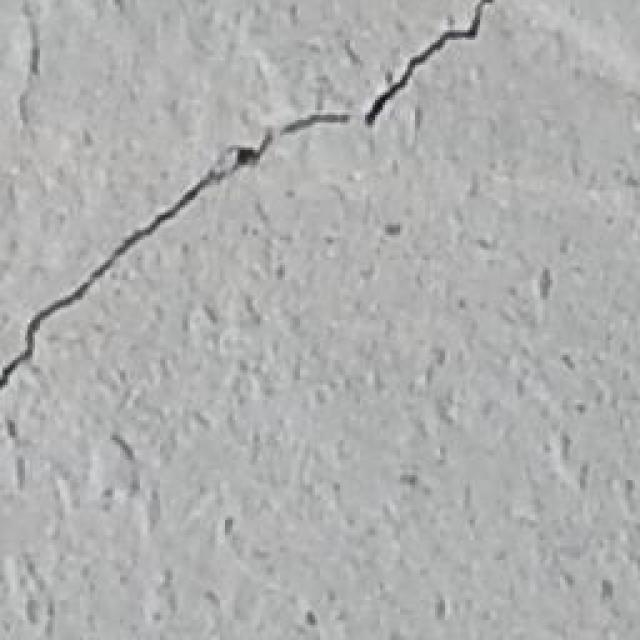concrete-crack: (0, 128, 275, 390), (365, 0, 495, 128), (282, 110, 352, 132)
